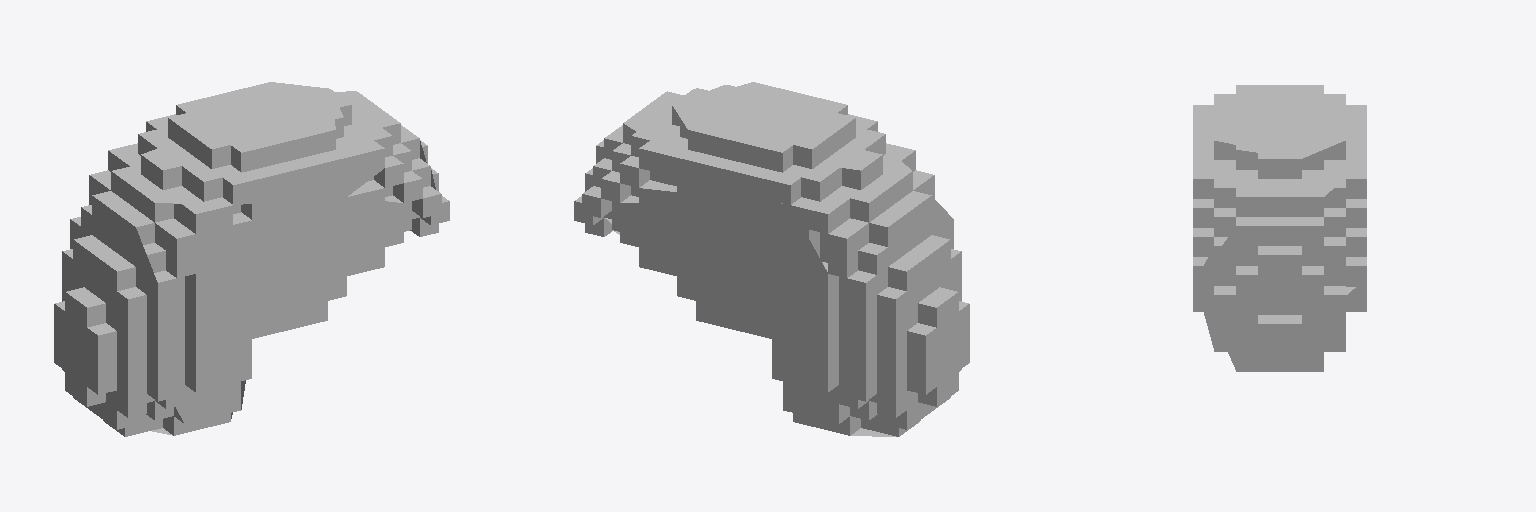
Rendered from Hair_Human_Male_Mohawk_1.obj.
3 views of the same model, side by side, from view 1: azimuth 30°, elevation 25°; view 2: azimuth 150°, elevation 25°; view 3: azimuth 270°, elevation 25° (orthographic).
Parts seen in each view (by area): view 1: Hair_Human_Mohawk1_Male; view 2: Hair_Human_Mohawk1_Male; view 3: Hair_Human_Mohawk1_Male.
Part boxes in pixels (bbox=[...]): Hair_Human_Mohawk1_Male: bbox=[54, 82, 449, 436]; Hair_Human_Mohawk1_Male: bbox=[574, 82, 969, 436]; Hair_Human_Mohawk1_Male: bbox=[1193, 85, 1366, 371].
Size of the model in its own units: 0.19 by 0.14 by 0.08.